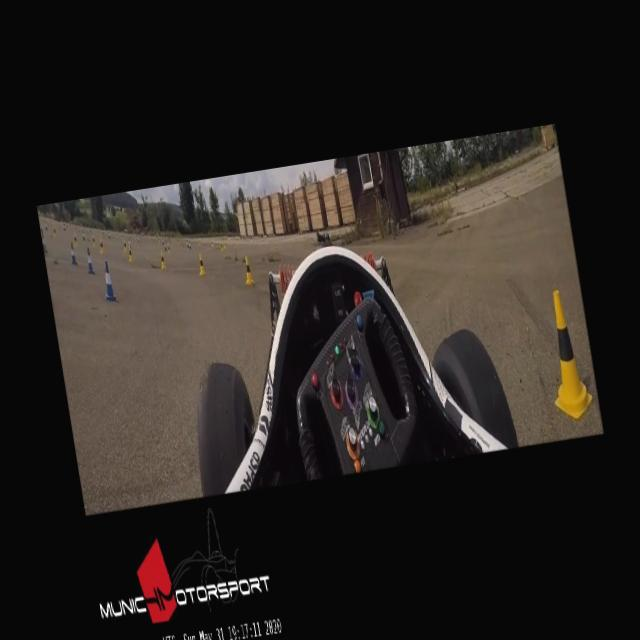blue_cone: (99, 260, 116, 302), (84, 247, 95, 276), (68, 242, 78, 266)
yellow_cone: (537, 286, 595, 422), (242, 256, 254, 284), (197, 252, 206, 276), (158, 250, 166, 270)
